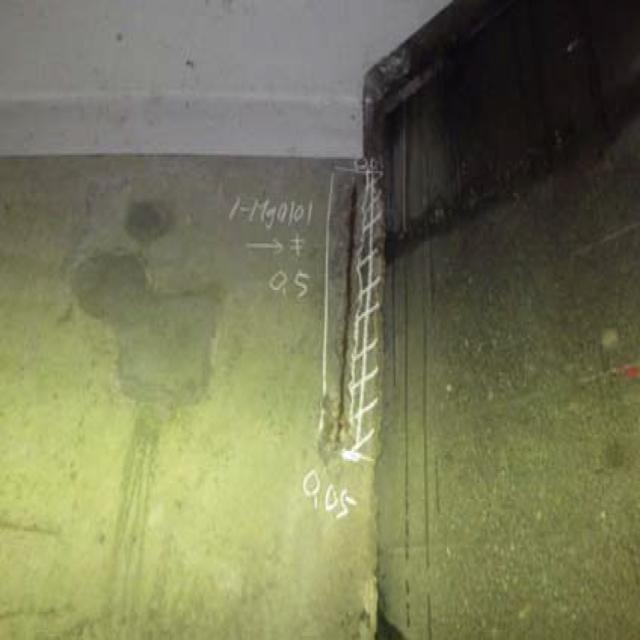spalling: (313, 162, 380, 482)
